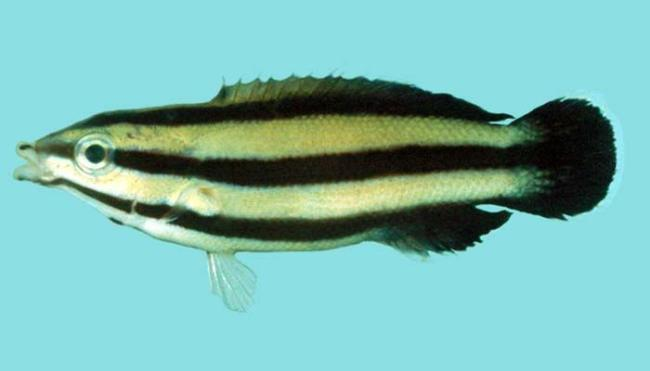fish: (12, 68, 618, 316)
